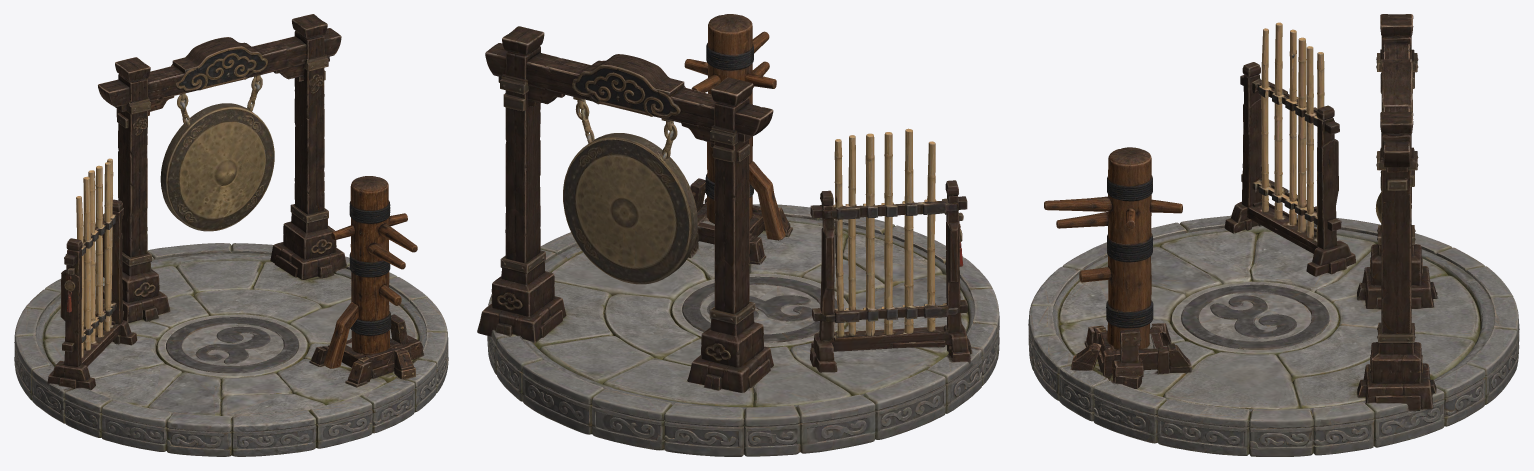
Rendered from training.glb.
3 renders of one model, left to right at view 1: azimuth 30°, elevation 25°; view 2: azimuth 150°, elevation 25°; view 3: azimuth 270°, elevation 25°, orthographic. The views are drawn at different scales.
Parts seen in each view (by area): view 1: Mesh_0; view 2: Mesh_0; view 3: Mesh_0.
Boxes of the visible parts, x1,y1,x2,y2 form: Mesh_0: (14,14,448,456); Mesh_0: (477,14,999,456); Mesh_0: (1028,14,1519,456).
Bounding box in the file's own units: 1.9 × 1.33 × 1.9.
1 material, 1 textured.
